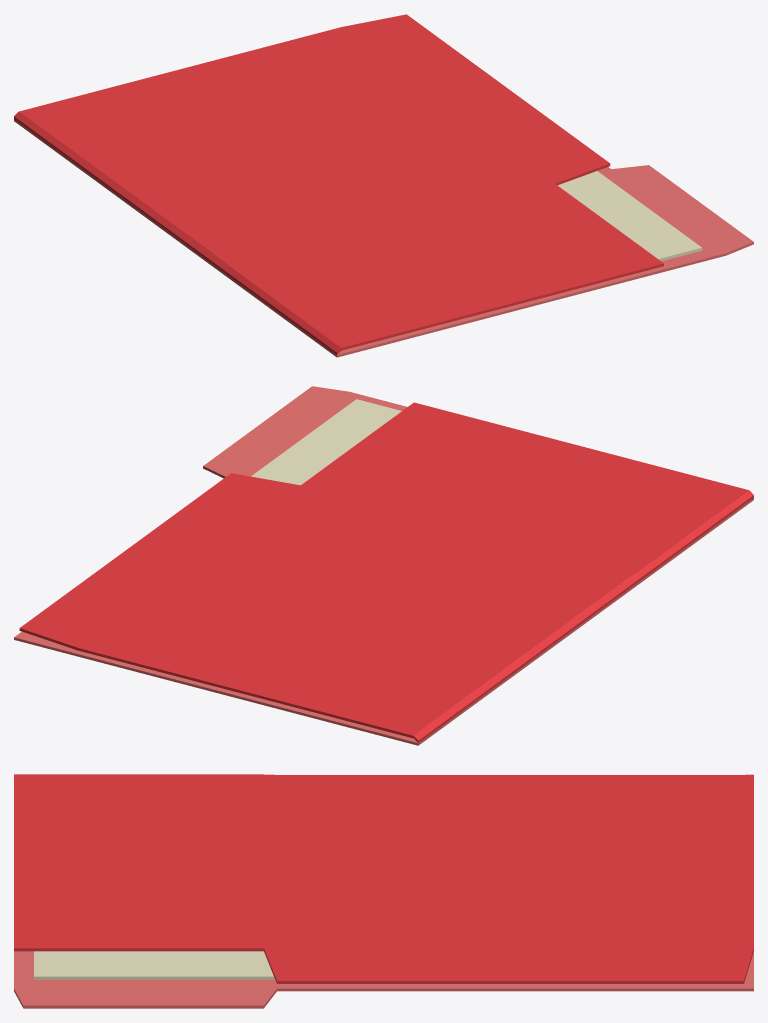
The model's file is Folder1_FBX.fbx.
The picture shows the model from 3 angles, top to bottom: view 1: azimuth 30°, elevation 25°; view 2: azimuth 150°, elevation 25°; view 3: azimuth 270°, elevation 25°; orthographic projection. The views are drawn at different scales.
Visible parts, largest first — view 1: folder1; view 2: folder1; view 3: folder1.
Part boxes in pixels (x1,y1,x2,y2): folder1: (14, 14, 753, 357); folder1: (14, 386, 753, 745); folder1: (14, 774, 753, 1008).
Bounding box in the file's own units: 231 × 8.08 × 307.
